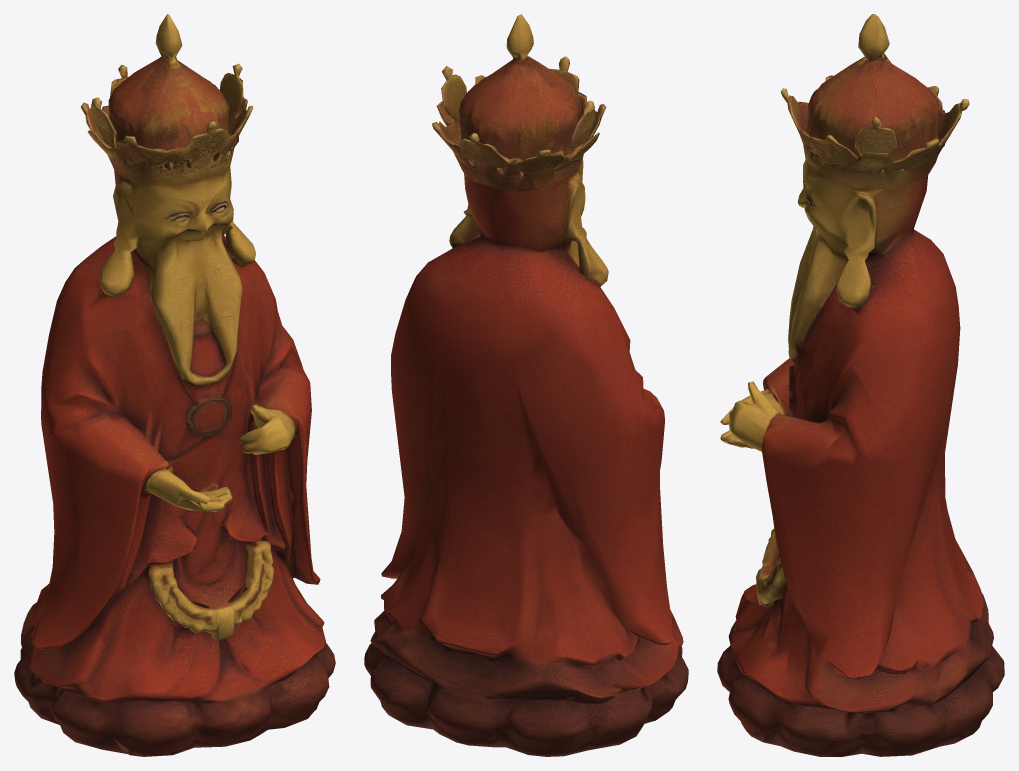
File: tieu-su-la-han.glb
3 views of the same model, side by side, from view 1: azimuth 30°, elevation 25°; view 2: azimuth 150°, elevation 25°; view 3: azimuth 270°, elevation 25° (orthographic).
Bounding box in the file's own units: 0.8266 × 1.9 × 0.722.
1 material, 1 textured.
